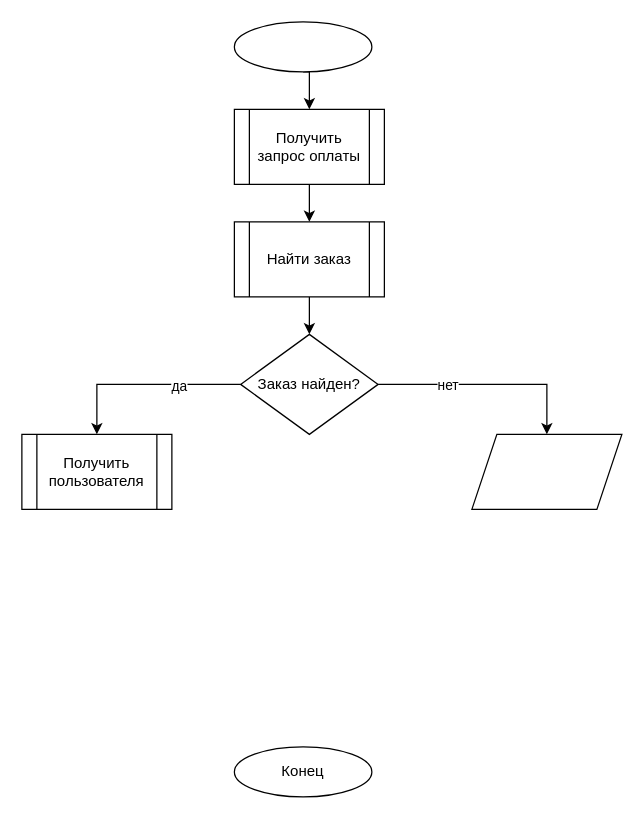
Some shapes in this 644 by 819 pixel diagram are drawn without their labels. Here are the shapes that lost their labels. From the top down, the centre of each, then its label:
At pixel 302 46: "Начало".
At pixel 546 471: "Заказ не найден".
